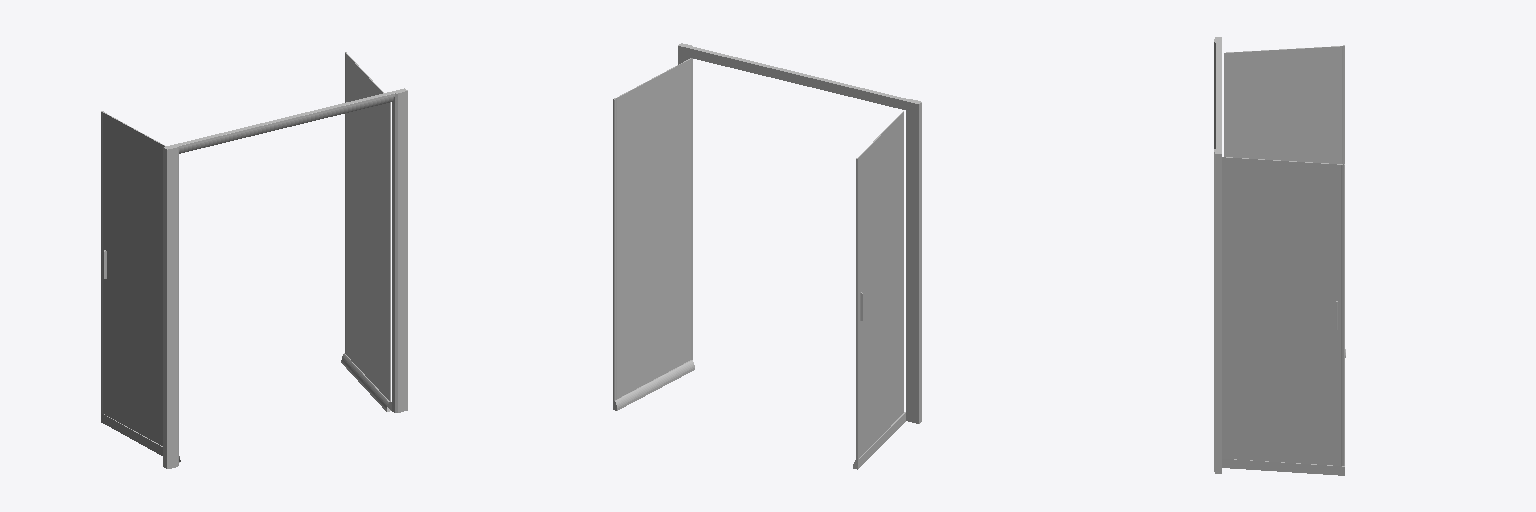
Rendered from Dooropen.obj.
3 views of the same model, side by side, from view 1: azimuth 30°, elevation 25°; view 2: azimuth 150°, elevation 25°; view 3: azimuth 270°, elevation 25° (orthographic).
Size of the model in its own units: 15.07 by 18.62 by 6.94.